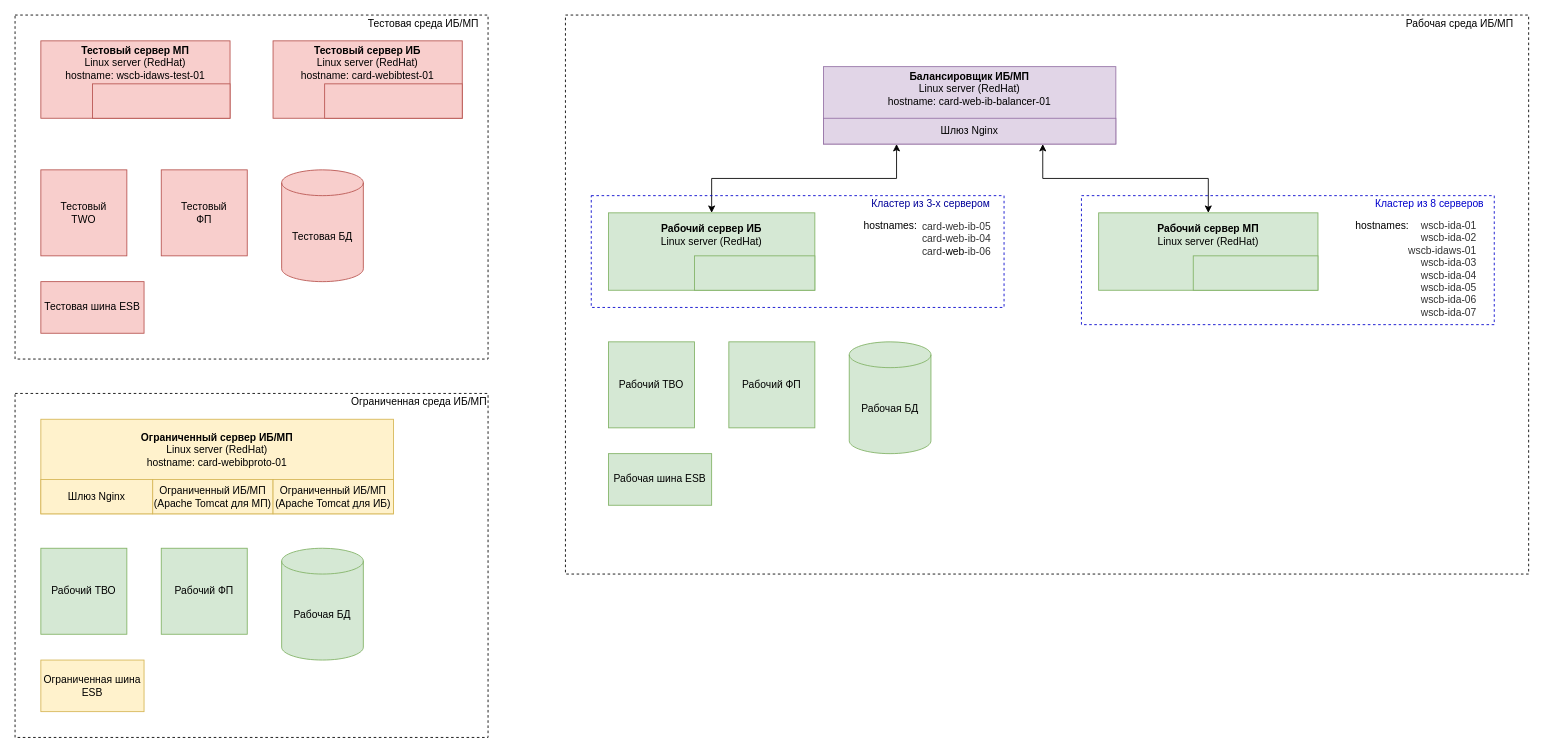
The diagram is 1544 pixels wide and 753 high, and some of its shapes have lost their labels. Here are the shapes that lost their labels. From the top down, the centre of each, then its label:
At point 161,100: "Тестовый ИБ/МП (Apache Tomcat для МП)".
At point 393,100: "Тестовый ИБ/МП (Apache Tomcat для ИБ)".
At point 754,272: "Рабочий ИБ/МП (Apache Tomcat для ИБ)".
At point 1255,272: "Рабочий ИБ/МП (Apache Tomcat для МП)".
